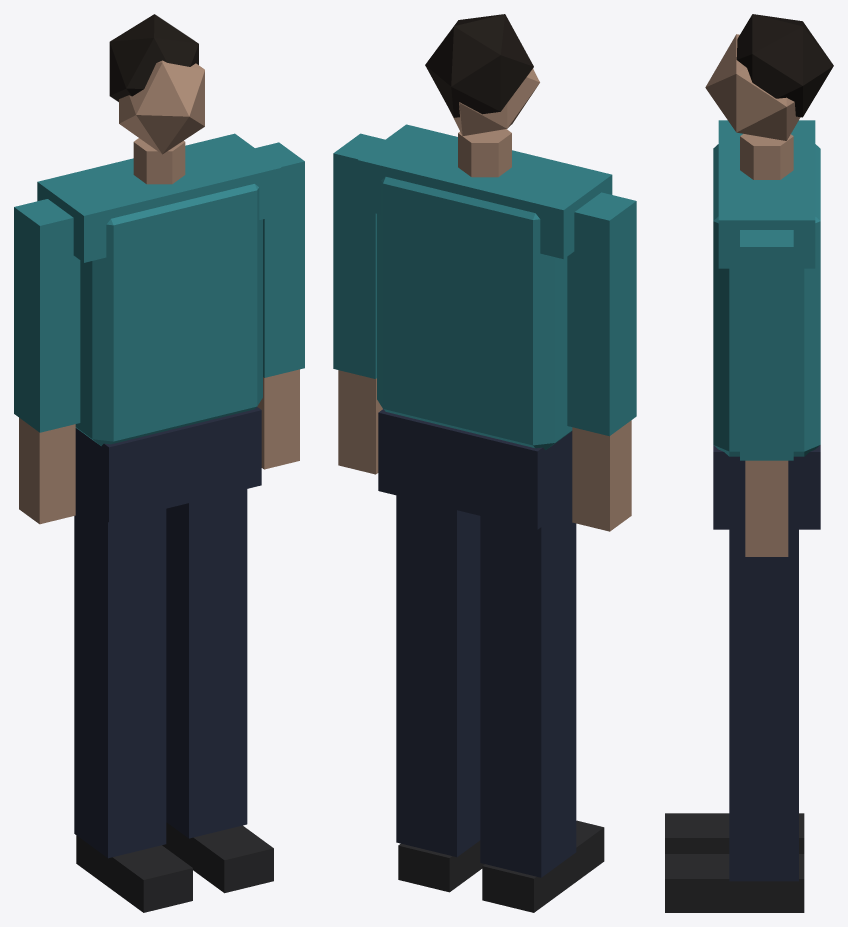
File: person_standing_a.glb
The picture shows the model from 3 angles, left to right: view 1: azimuth 30°, elevation 25°; view 2: azimuth 150°, elevation 25°; view 3: azimuth 270°, elevation 25°; orthographic projection. The views are drawn at different scales.
Parts seen in each view (by area): view 1: Body_LOD0; view 2: Body_LOD0; view 3: Body_LOD0.
Part boxes in pixels (box(x1,y1,x2,y2)): Body_LOD0: box(14, 14, 304, 912); Body_LOD0: box(333, 14, 636, 912); Body_LOD0: box(665, 14, 833, 912).
Size of the model in its own units: 0.59 by 1.77 by 0.315.
